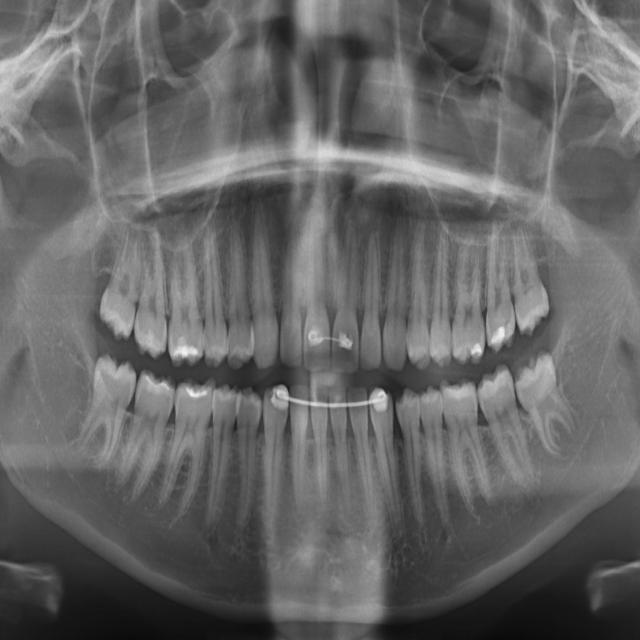CompositeResinRestoration: (451, 316, 488, 364), (170, 326, 204, 364), (178, 378, 215, 412), (490, 312, 516, 353)
